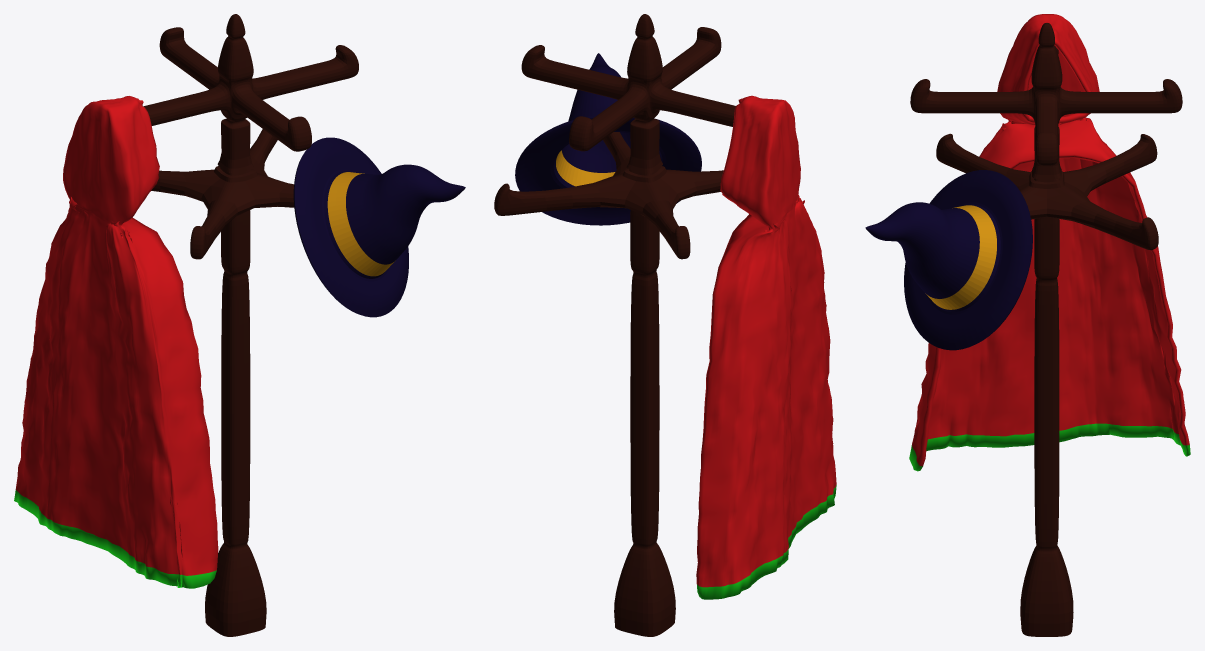
The model's file is HANGER.fbx.
The picture shows the model from 3 angles, left to right: view 1: azimuth 30°, elevation 25°; view 2: azimuth 150°, elevation 25°; view 3: azimuth 270°, elevation 25°; orthographic projection.
Parts seen in each view (by area): view 1: Plane (×2), Cube, Circle (×2); view 2: Plane (×2), Cube, Circle (×2); view 3: Plane (×2), Cube, Circle (×2).
Boxes of the visible parts, x1=… form: Plane (×2): x1=14, y1=96, x2=218, y2=588; Cube: x1=143, y1=14, x2=358, y2=636; Circle (×2): x1=293, y1=137, x2=465, y2=317; Plane (×2): x1=696, y1=95, x2=836, y2=599; Cube: x1=494, y1=14, x2=735, y2=636; Circle (×2): x1=515, y1=53, x2=701, y2=225; Plane (×2): x1=909, y1=14, x2=1190, y2=471; Cube: x1=910, y1=23, x2=1182, y2=636; Circle (×2): x1=865, y1=170, x2=1032, y2=350.
Bounding box in the file's own units: 1025 × 1925 × 942.
